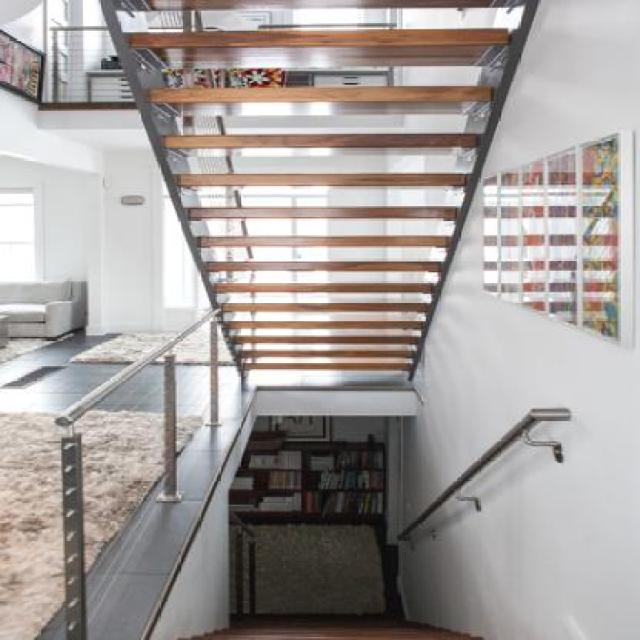stair: (163, 1, 551, 405)
